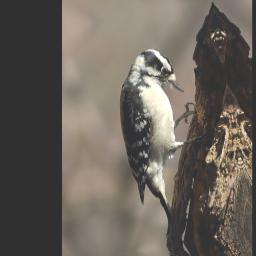Woodpecker: (109, 44, 215, 231)
